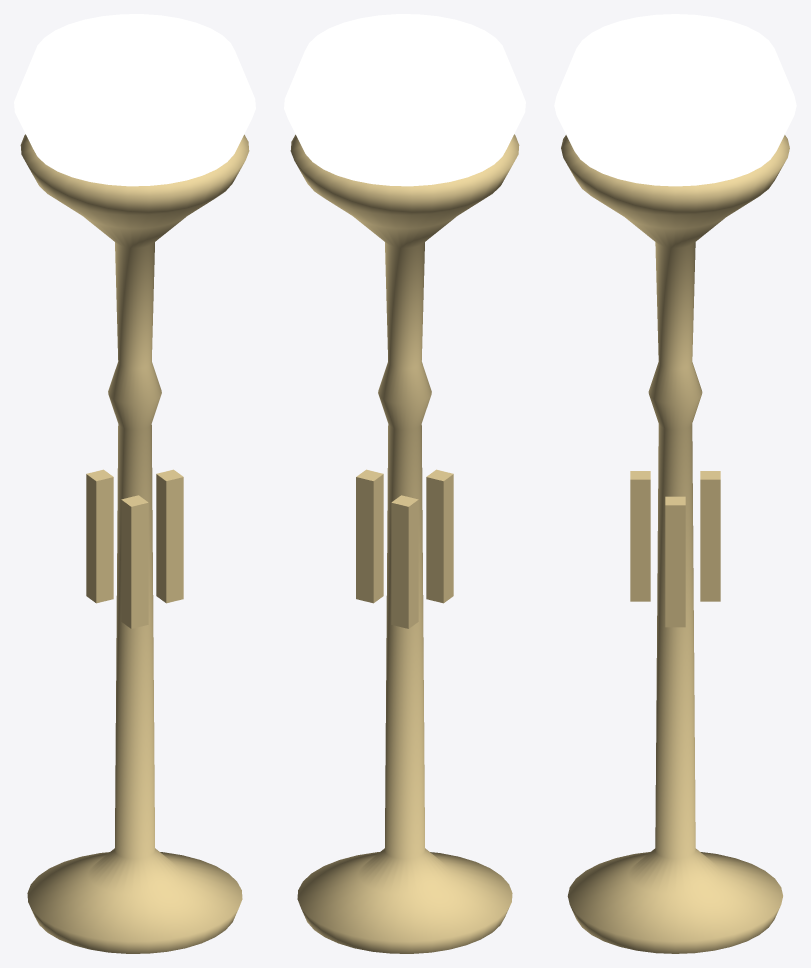
Rendered from torchere.glb.
3 views of the same model, side by side, from view 1: azimuth 30°, elevation 25°; view 2: azimuth 150°, elevation 25°; view 3: azimuth 270°, elevation 25° (orthographic).
Visible parts, largest first — view 1: torchere; view 2: torchere; view 3: torchere.
Part boxes in pixels (x1,y1,x2,y2): torchere: (14,14,255,953); torchere: (284,14,525,953); torchere: (554,14,796,953).
Bounding box in the file's own units: 0.72 × 2.82 × 0.72.
